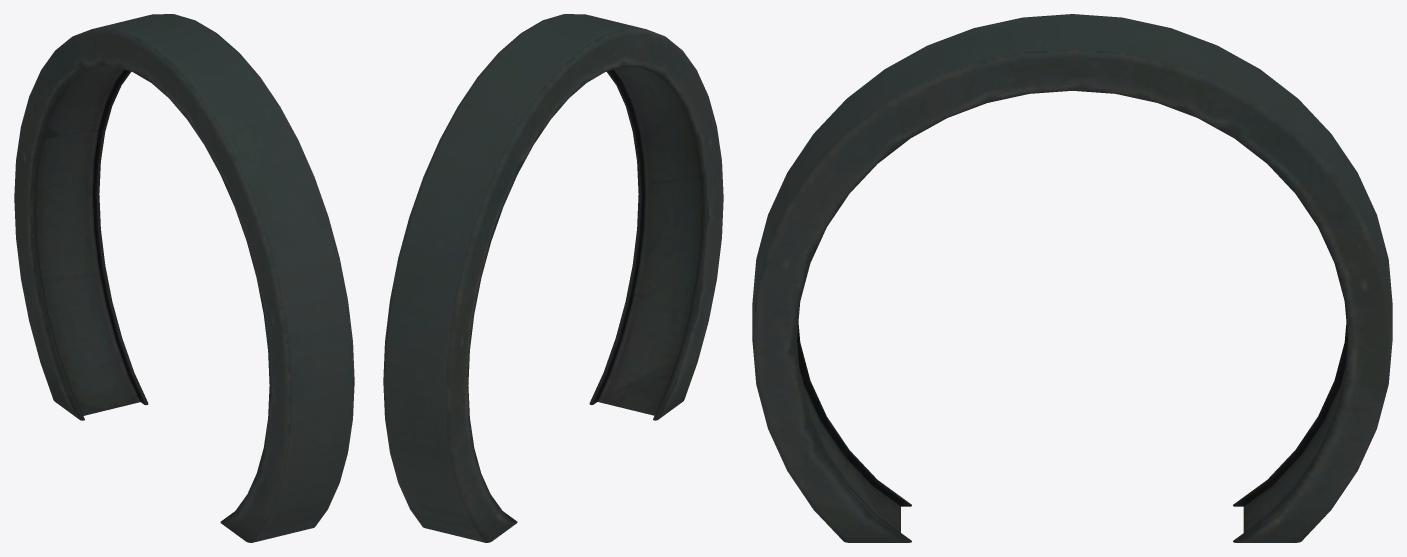
The model's file is door_01_frame_reference.glb.
3 views of the same model, side by side, from view 1: azimuth 30°, elevation 25°; view 2: azimuth 150°, elevation 25°; view 3: azimuth 270°, elevation 25° (orthographic). The views are drawn at different scales.
Parts seen in each view (by area): view 1: Body_Door_01_Frame_reference.smd; view 2: Body_Door_01_Frame_reference.smd; view 3: Body_Door_01_Frame_reference.smd.
Part boxes in pixels (bbox=[...]): Body_Door_01_Frame_reference.smd: bbox=[14, 14, 354, 542]; Body_Door_01_Frame_reference.smd: bbox=[383, 14, 723, 542]; Body_Door_01_Frame_reference.smd: bbox=[752, 14, 1392, 542].
Bounding box in the file's own units: 0.3493 × 2.06 × 2.43.
1 material, 1 textured.
